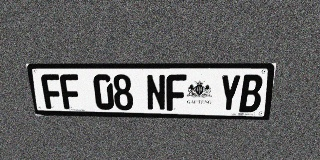0: (93, 74, 114, 110)
8: (112, 74, 133, 110)
B: (239, 75, 264, 112)
F: (40, 74, 64, 109), (59, 74, 82, 109), (166, 74, 186, 111)
N: (146, 74, 166, 111)
Y: (218, 74, 241, 112)
